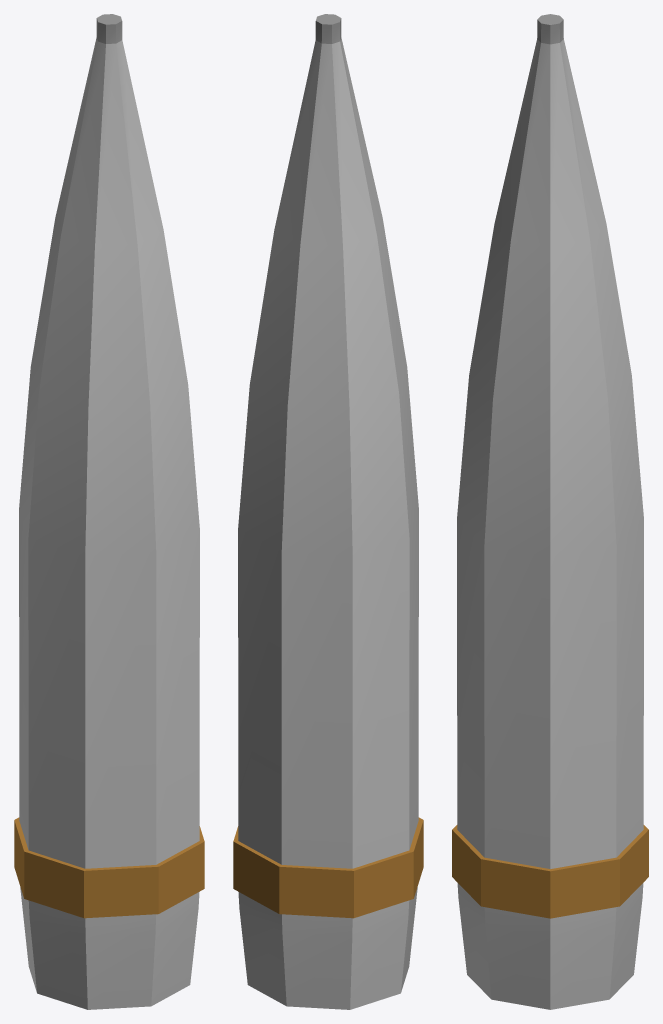
Rendered from cartridges9.fbx.
3 renders of one model, left to right at view 1: azimuth 30°, elevation 25°; view 2: azimuth 150°, elevation 25°; view 3: azimuth 270°, elevation 25°, orthographic.
Parts seen in each view (by area): view 1: Cylinder; view 2: Cylinder; view 3: Cylinder.
Part boxes in pixels (<box>): Cylinder: <box>14,14,204,1009</box>; Cylinder: <box>233,14,423,1009</box>; Cylinder: <box>452,14,648,1009</box>.
Bounding box in the file's own units: 15.41 × 82.55 × 15.41.
